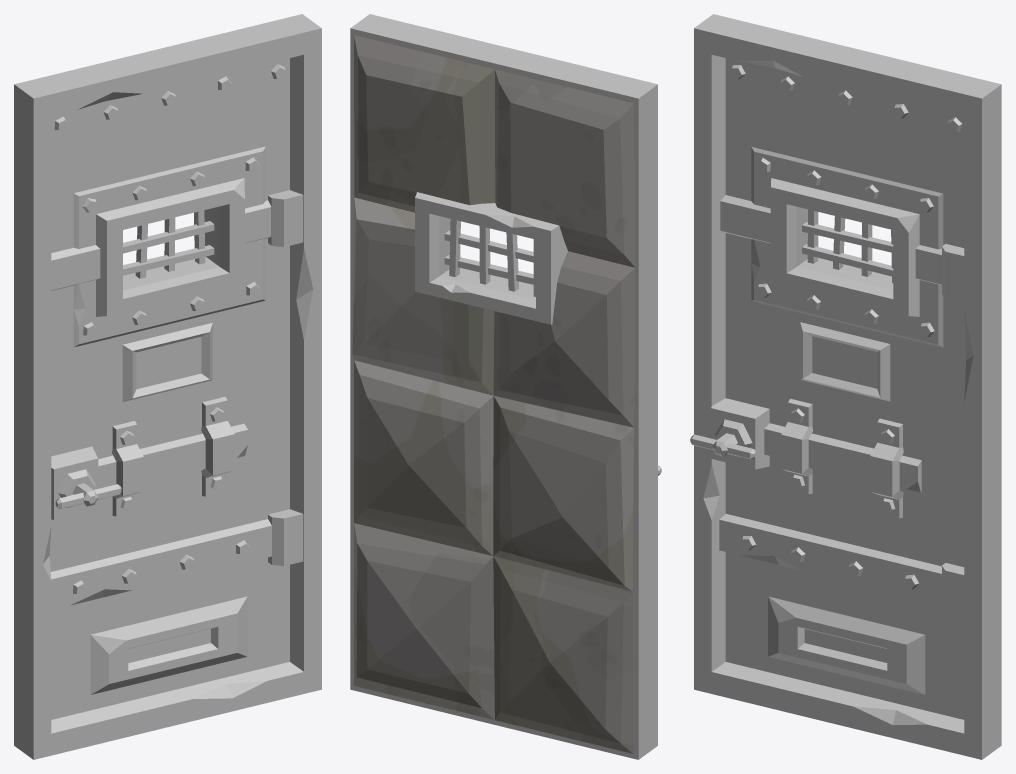
Rendered from SM_Bld_Door_Large_06.fbx.
The picture shows the model from 3 angles, left to right: view 1: azimuth 30°, elevation 25°; view 2: azimuth 150°, elevation 25°; view 3: azimuth 330°, elevation 25°; orthographic projection.
Parts seen in each view (by area): view 1: SM_Bld_Door_Large_06; view 2: SM_Bld_Door_Large_06; view 3: SM_Bld_Door_Large_06.
Boxes of the visible parts, left/top/right/bottom form: SM_Bld_Door_Large_06: left=14, top=14, right=321, bottom=759; SM_Bld_Door_Large_06: left=350, top=14, right=661, bottom=759; SM_Bld_Door_Large_06: left=690, top=14, right=1001, bottom=759.
Size of the model in its own units: 113 by 247 by 34.01.
